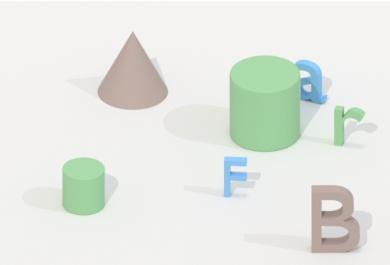0-KhoiTru: (224, 53, 303, 154), (59, 155, 110, 219)
0-TamGiac: (93, 29, 172, 113)
B: (307, 180, 363, 257)
F: (219, 153, 251, 201)
a: (293, 57, 330, 107)
r: (330, 100, 368, 152)
